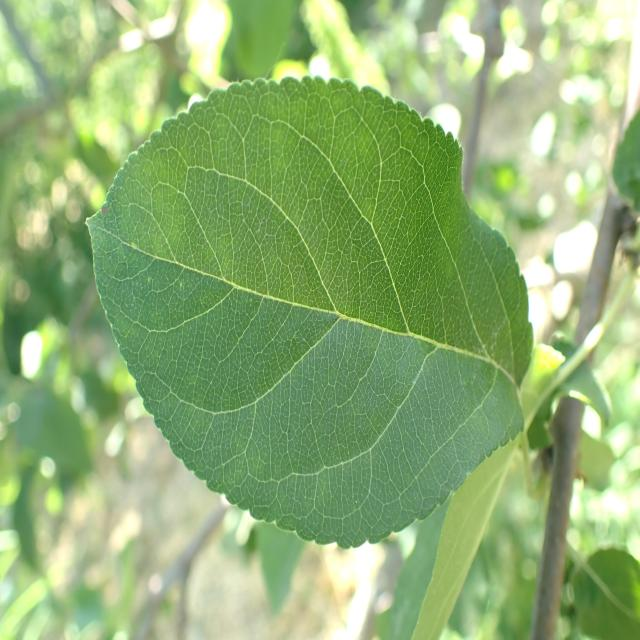healthy: (84, 74, 534, 548)
